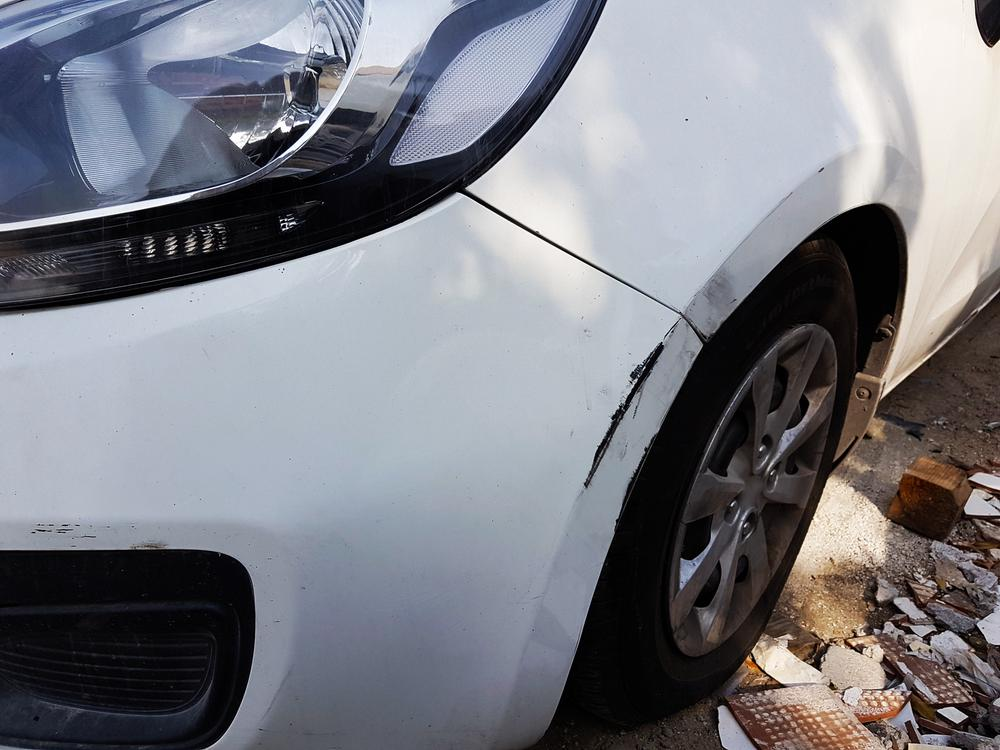scratch: (574, 319, 700, 497)
